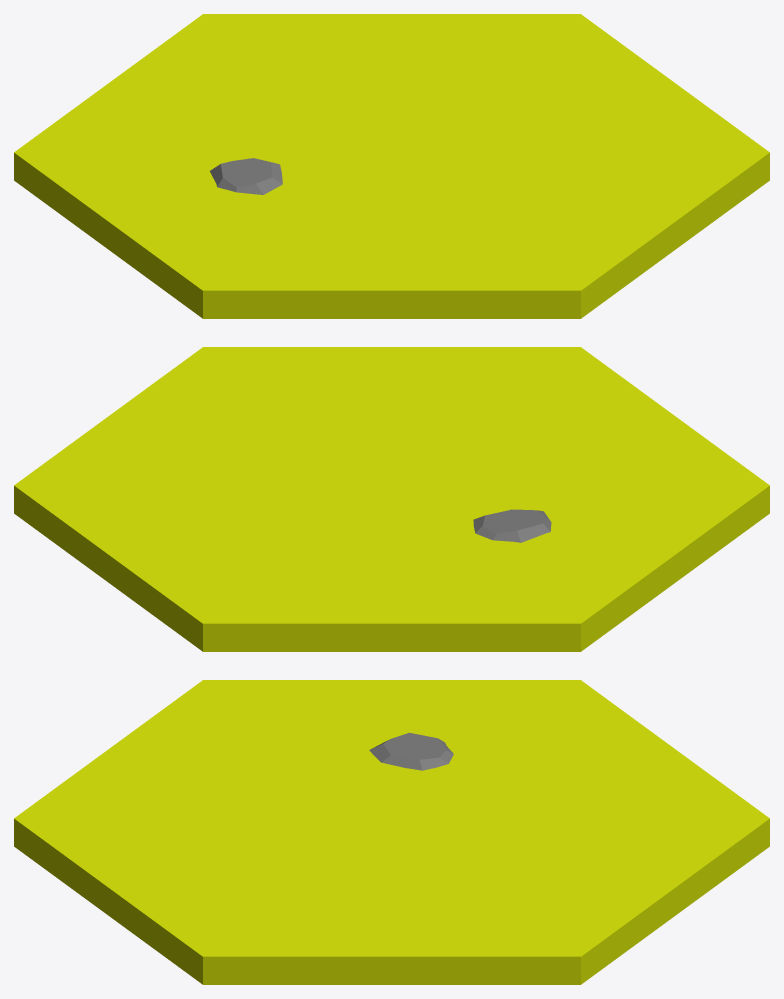
Rendered from yellow1.glb.
3 renders of one model, top to bottom at view 1: azimuth 30°, elevation 25°; view 2: azimuth 150°, elevation 25°; view 3: azimuth 270°, elevation 25°, orthographic.
Parts seen in each view (by area): view 1: Cylinder.002; view 2: Cylinder.002; view 3: Cylinder.002.
Part boxes in pixels (box(x1,y1,x2,y2)): Cylinder.002: box(14, 14, 769, 318); Cylinder.002: box(14, 347, 769, 651); Cylinder.002: box(14, 680, 769, 984).
Bounding box in the file's own units: 0.9458 × 0.0572 × 1.09.
